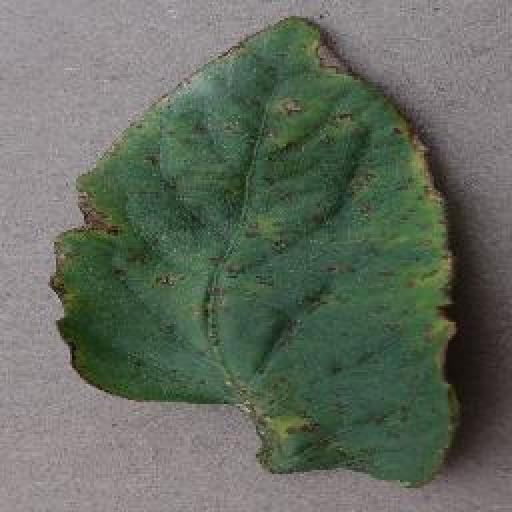Bacterial Spot: (49, 16, 468, 489)
